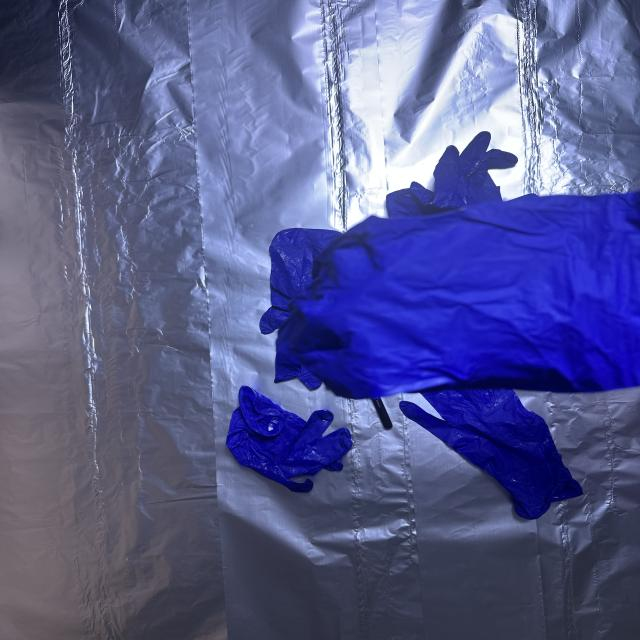glove_not_fitted: (295, 199, 640, 418)
